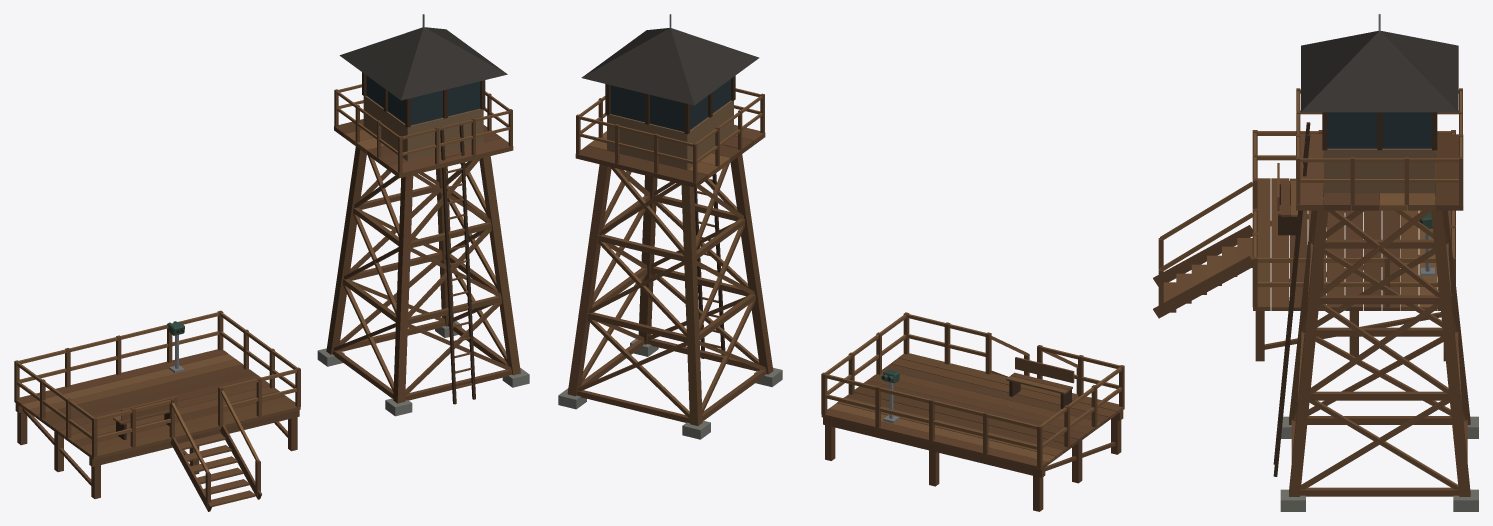
File: lookout.glb
The picture shows the model from 3 angles, left to right: view 1: azimuth 30°, elevation 25°; view 2: azimuth 150°, elevation 25°; view 3: azimuth 270°, elevation 25°; orthographic projection. The views are drawn at different scales.
Visible parts, largest first — view 1: lookout; view 2: lookout; view 3: lookout.
Part boxes in pixels (x1,y1,x2,y2): lookout: [14, 14, 529, 511]; lookout: [558, 14, 1124, 511]; lookout: [1153, 14, 1478, 511].
Bounding box in the file's own units: 12.95 × 9.98 × 6.41.
